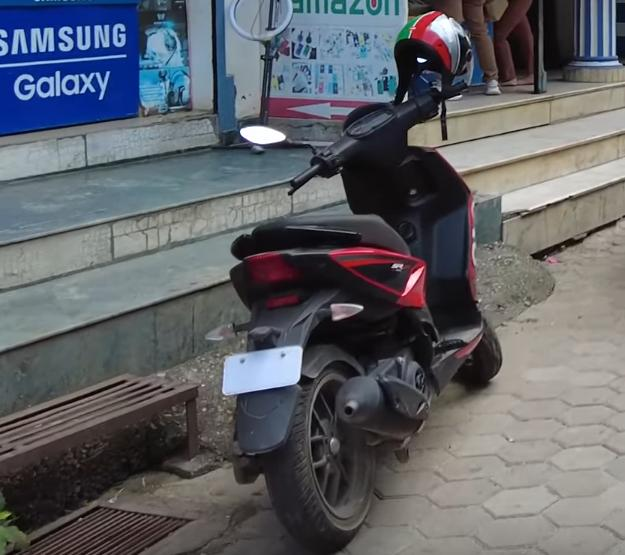scooter: (203, 70, 513, 550)
